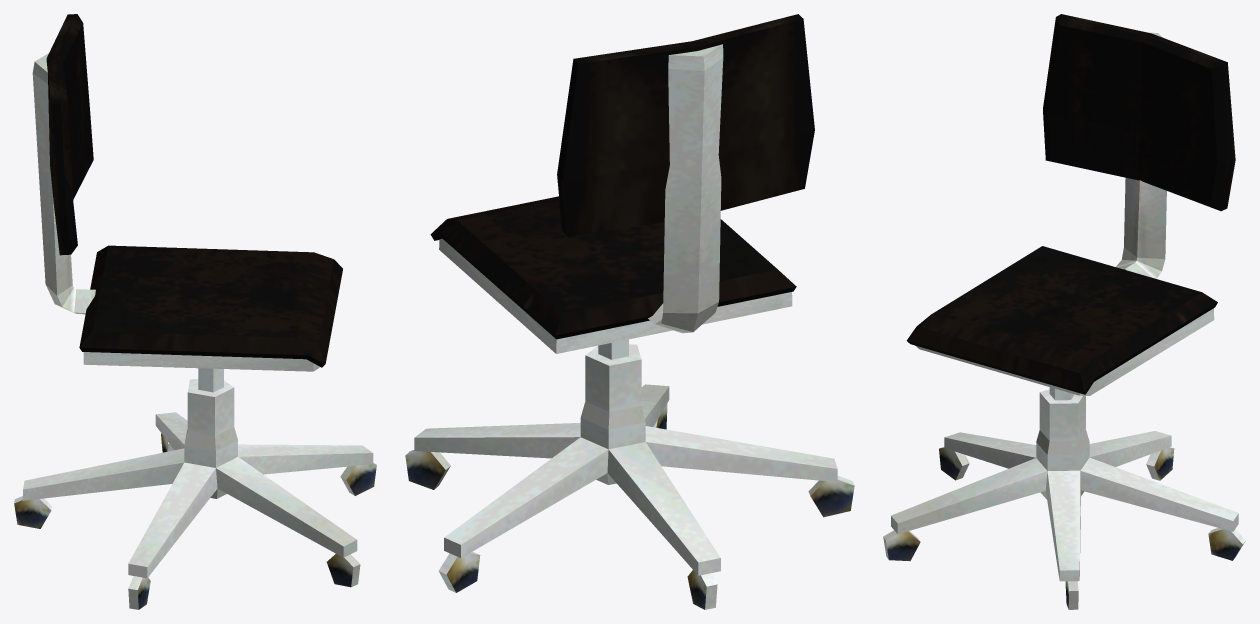
File: office_chair_black_alt.fbx
The picture shows the model from 3 angles, left to right: view 1: azimuth 30°, elevation 25°; view 2: azimuth 150°, elevation 25°; view 3: azimuth 270°, elevation 25°; orthographic projection. The views are drawn at different scales.
Visible parts, largest first — view 1: office_chair_black_alt; view 2: office_chair_black_alt; view 3: office_chair_black_alt.
Boxes of the visible parts, bbox=[...] form: office_chair_black_alt: bbox=[14, 14, 376, 609]; office_chair_black_alt: bbox=[405, 14, 854, 609]; office_chair_black_alt: bbox=[883, 14, 1245, 609].
Size of the model in its own units: 81.14 by 110 by 80.23.
